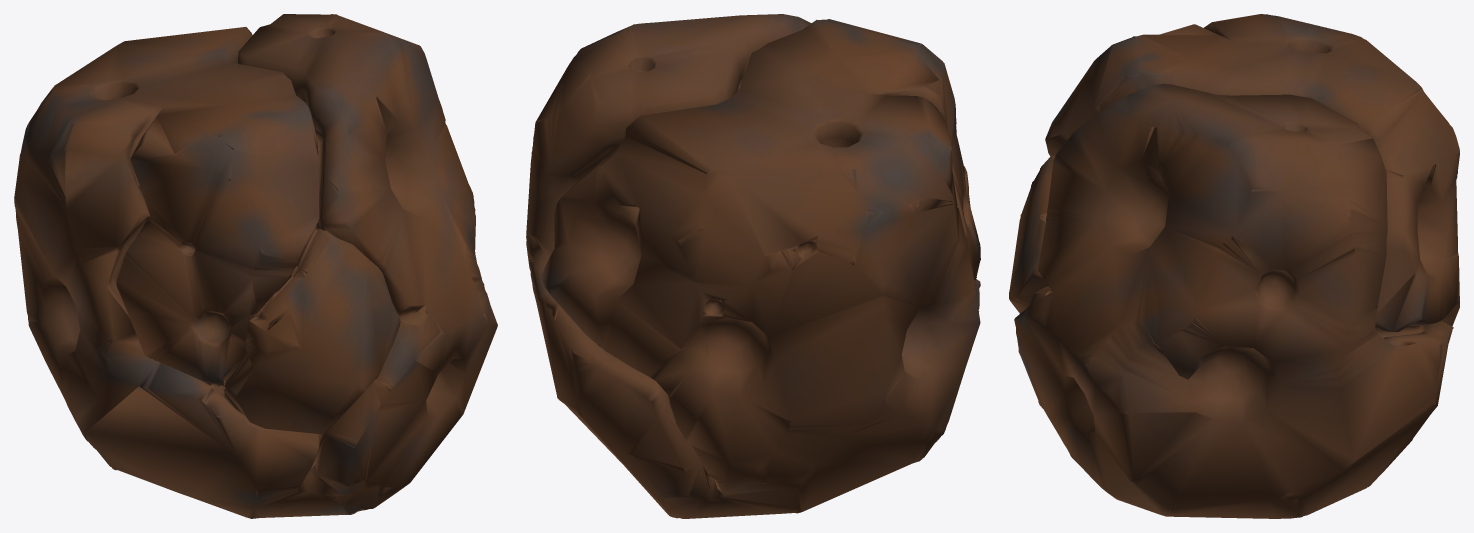
The model's file is original_glb.glb.
The picture shows the model from 3 angles, left to right: view 1: azimuth 30°, elevation 25°; view 2: azimuth 150°, elevation 25°; view 3: azimuth 270°, elevation 25°; orthographic projection. The views are drawn at different scales.
Visible parts, largest first — view 1: Medium Iron Asteroid; view 2: Medium Iron Asteroid; view 3: Medium Iron Asteroid.
Part boxes in pixels (<box>): Medium Iron Asteroid: <box>14,14,497,518</box>; Medium Iron Asteroid: <box>526,14,980,518</box>; Medium Iron Asteroid: <box>1009,14,1459,518</box>.
Size of the model in its own units: 0.9629 by 0.9785 by 0.998.
1 material, 1 textured.
